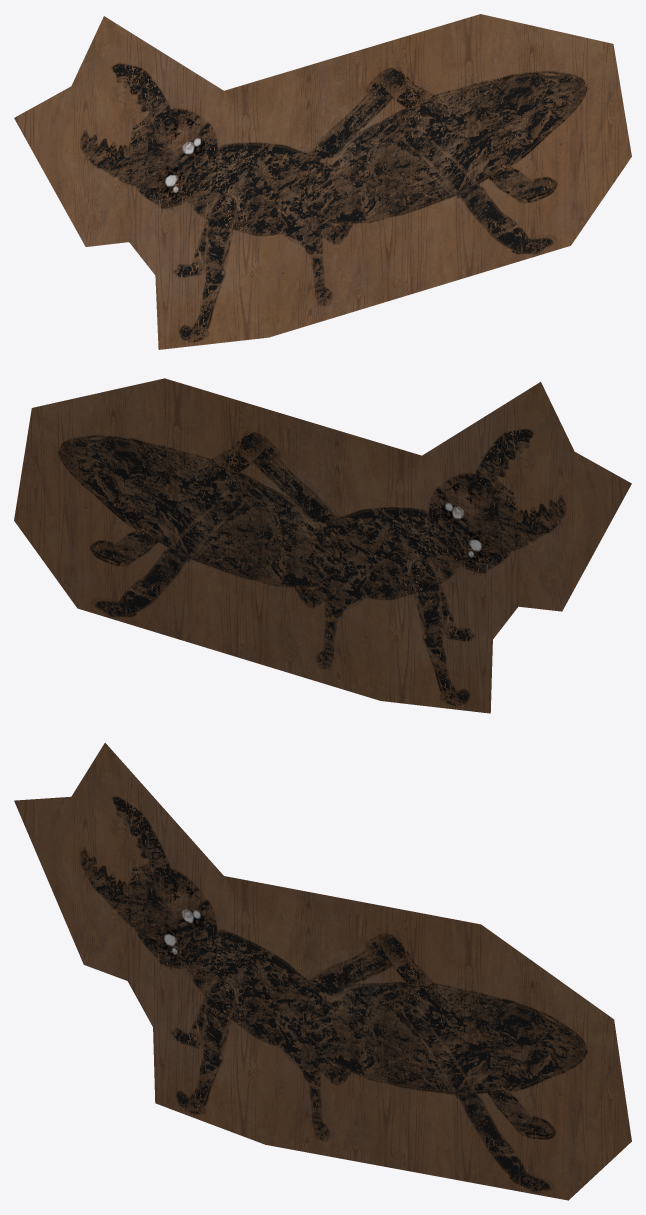
The model's file is Hormiga.fbx.
3 views of the same model, one above another, from view 1: azimuth 30°, elevation 25°; view 2: azimuth 150°, elevation 25°; view 3: azimuth 330°, elevation 25° (orthographic).
Parts seen in each view (by area): view 1: Plane.006; view 2: Plane.006; view 3: Plane.006.
Part boxes in pixels (x1=…): Plane.006: x1=14, y1=14, x2=631, y2=349; Plane.006: x1=14, y1=378, x2=631, y2=713; Plane.006: x1=14, y1=742, x2=631, y2=1200.
Bounding box in the file's own units: 38.94 × 21.68 × 0.2904.
Materials: 1 (1 with a texture image).
